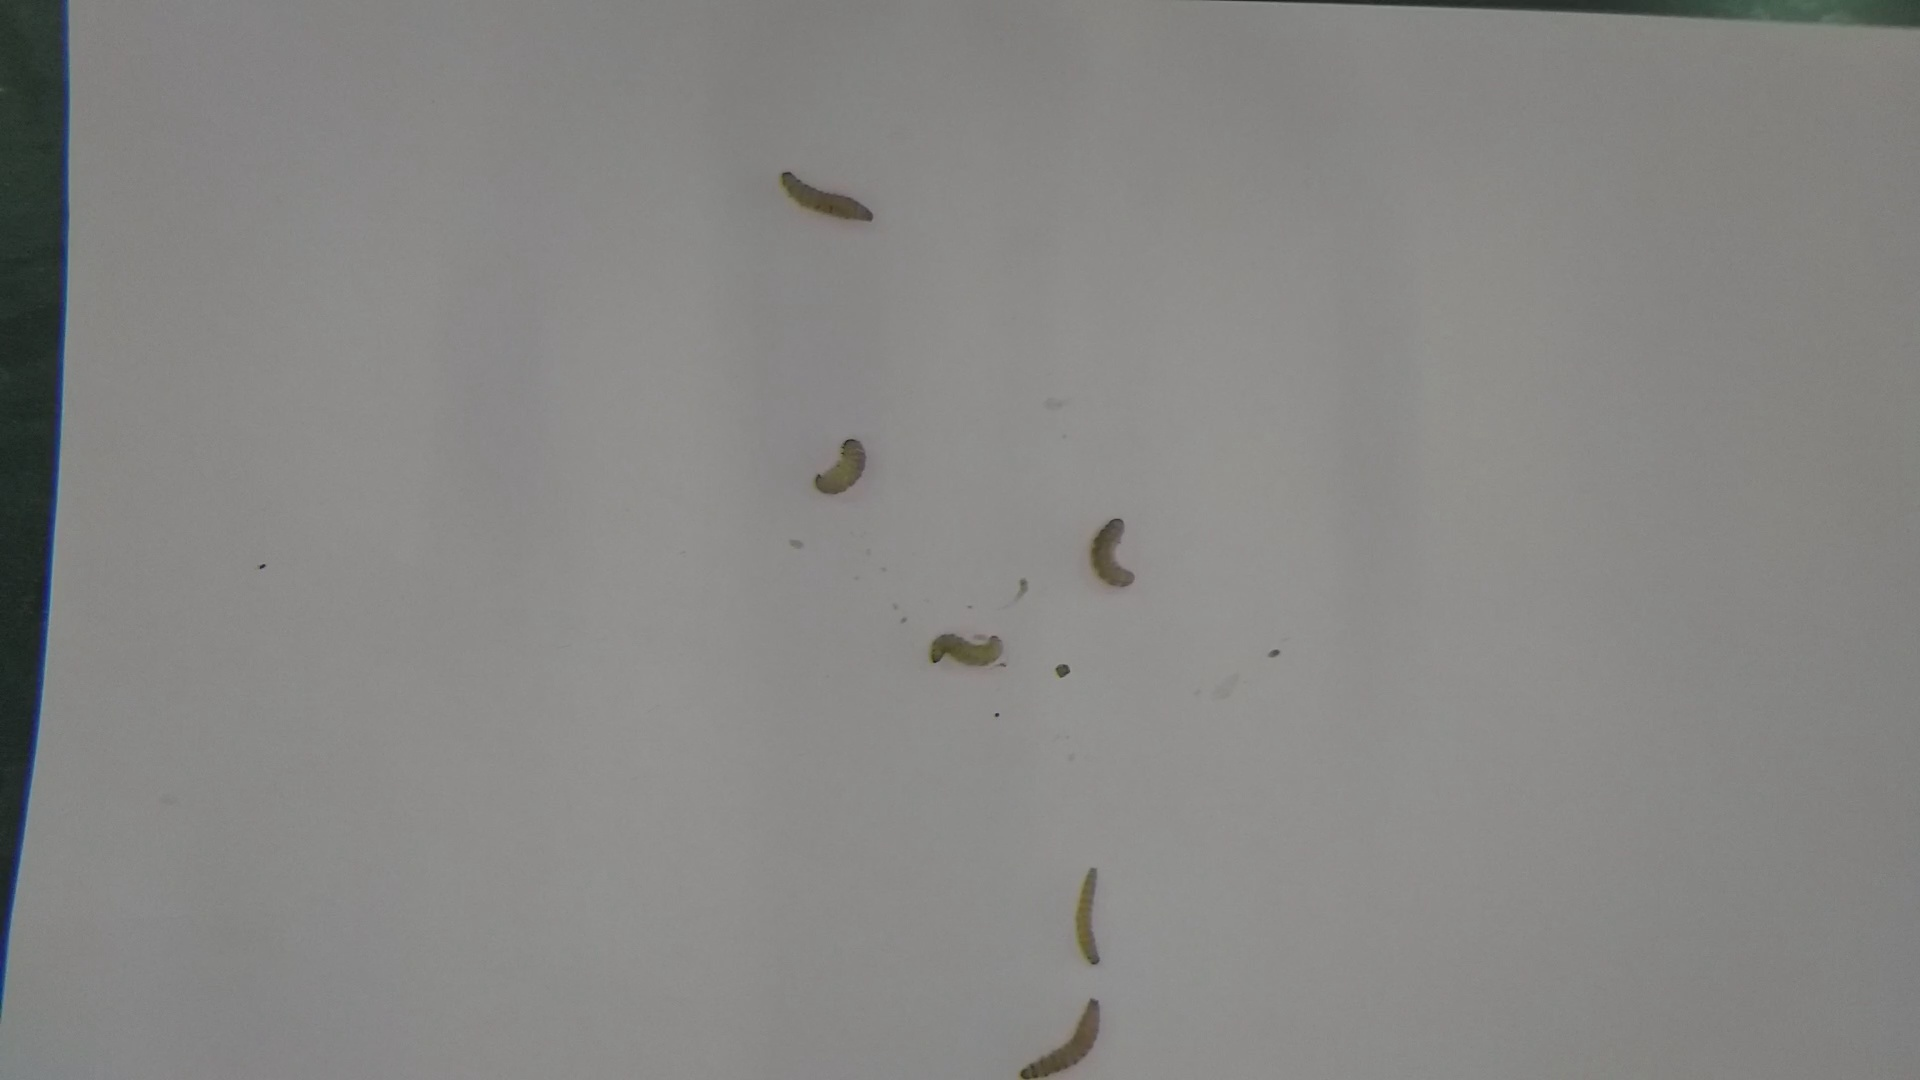efsb: (1015, 996, 1104, 1080), (775, 166, 878, 229), (1087, 510, 1149, 592), (812, 430, 873, 505), (924, 630, 1011, 671), (1076, 860, 1106, 975)
